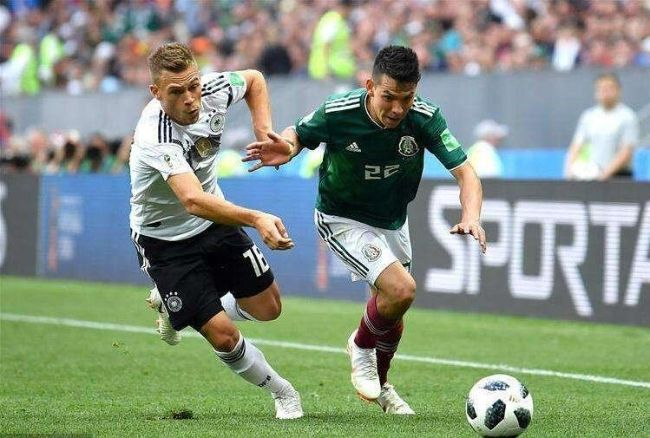football: (465, 373, 535, 438)
